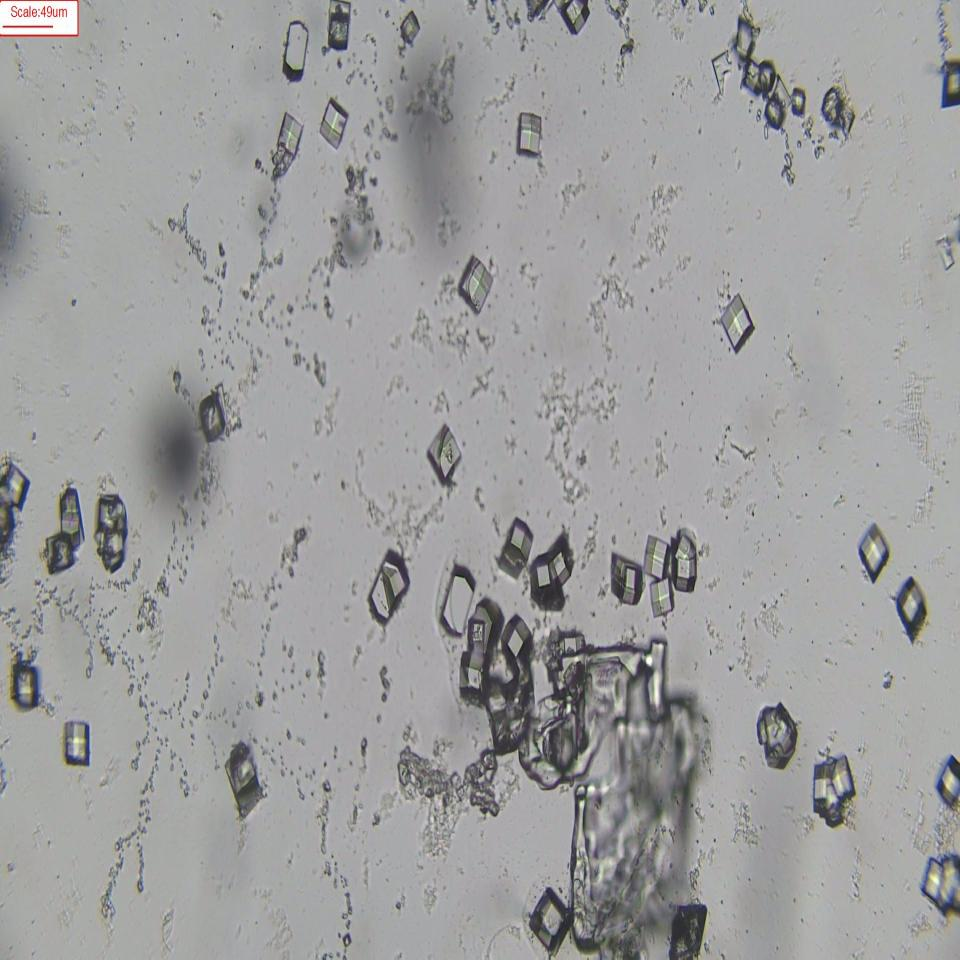crystal: (755, 696, 802, 772), (371, 549, 408, 622), (280, 9, 309, 98), (532, 894, 570, 953), (721, 290, 755, 353), (428, 418, 462, 477), (226, 754, 259, 814), (195, 389, 230, 443), (326, 0, 357, 59), (444, 568, 470, 636), (461, 256, 494, 308), (898, 576, 926, 637), (861, 523, 889, 583), (503, 517, 533, 573), (516, 105, 544, 161), (62, 716, 93, 766), (674, 533, 698, 592), (936, 753, 960, 810), (612, 554, 640, 601), (320, 101, 347, 148), (942, 47, 960, 114), (394, 5, 422, 48), (644, 529, 668, 577), (278, 114, 304, 158), (13, 670, 40, 706), (789, 83, 811, 127), (647, 580, 673, 617), (762, 94, 786, 130)
not_crystal: (459, 652, 529, 742), (811, 759, 859, 817), (49, 487, 83, 566), (537, 554, 579, 601), (100, 500, 125, 560)
